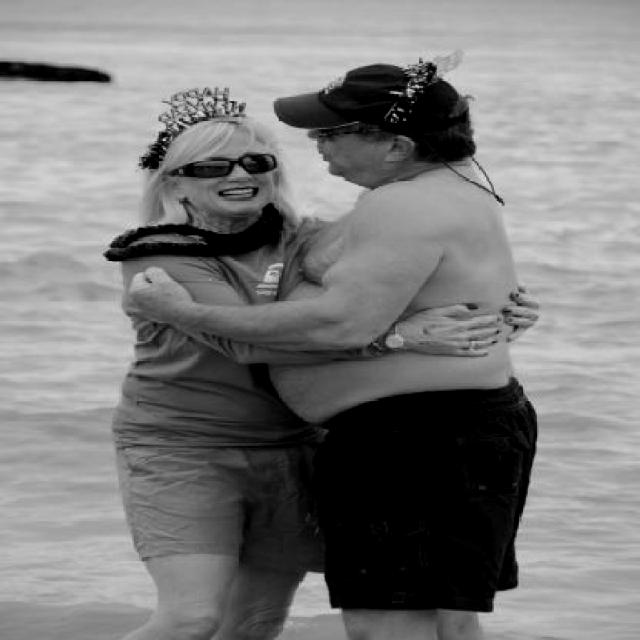face_nomask: (170, 146, 285, 212)
glasses: (154, 140, 292, 189)
hand_noglove: (392, 289, 496, 369), (118, 260, 205, 322), (493, 280, 544, 342)
